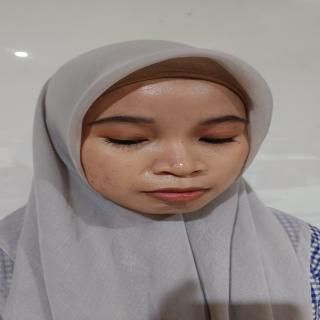Sedih: (68, 65, 256, 233)
